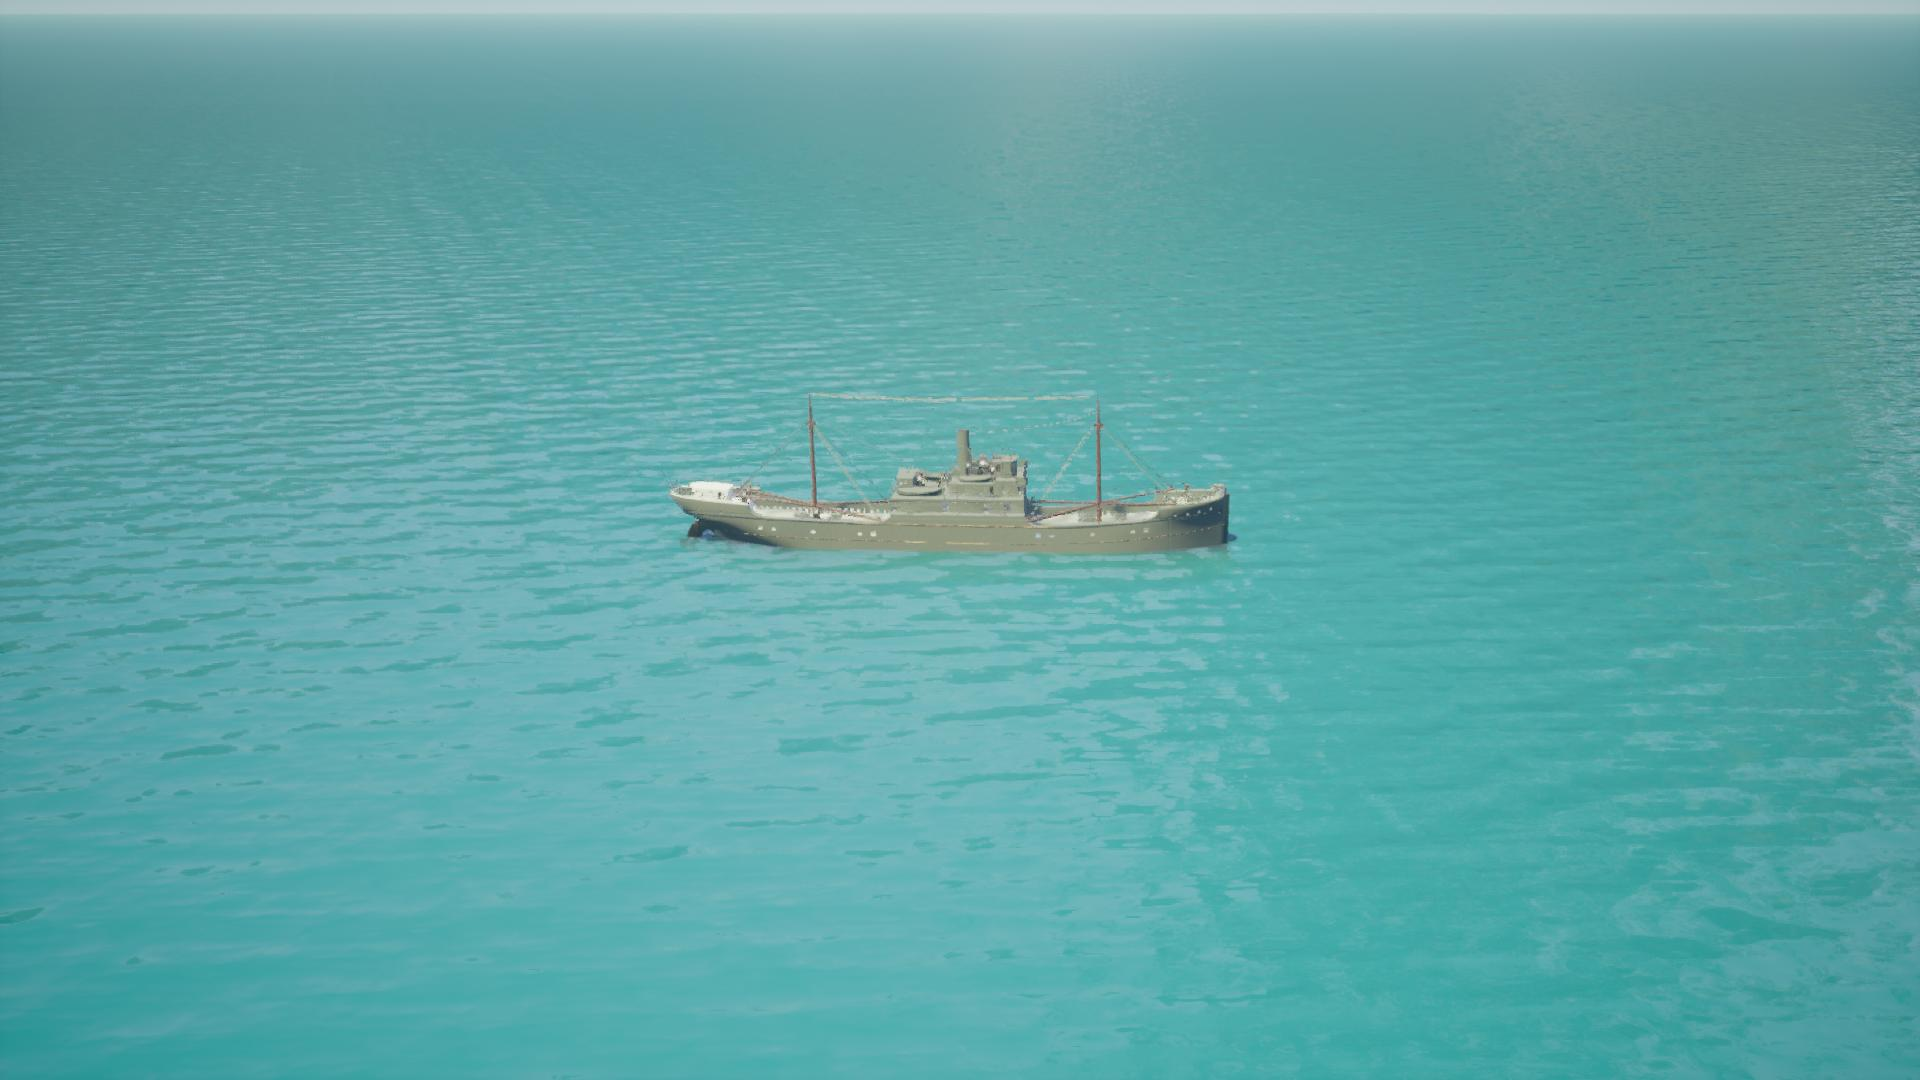Fishing Boat: (671, 396, 1233, 559)
